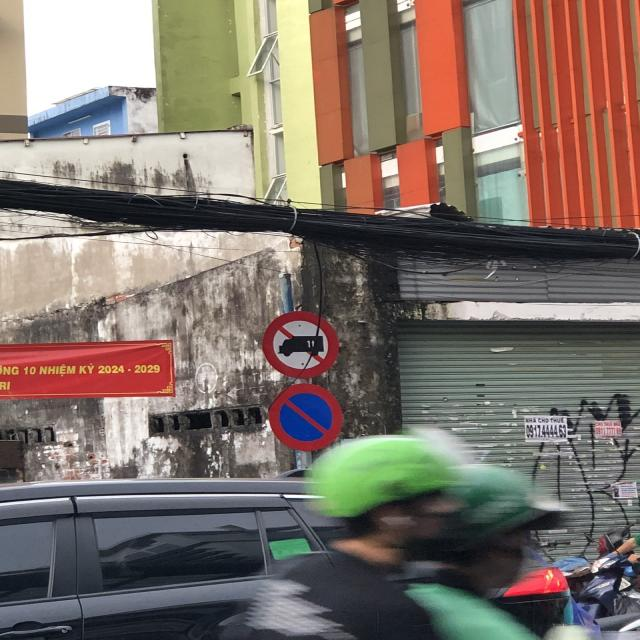Bien bao cam do xe: (265, 380, 347, 456)
Bien bao cam xe oto tai: (259, 305, 343, 379)
